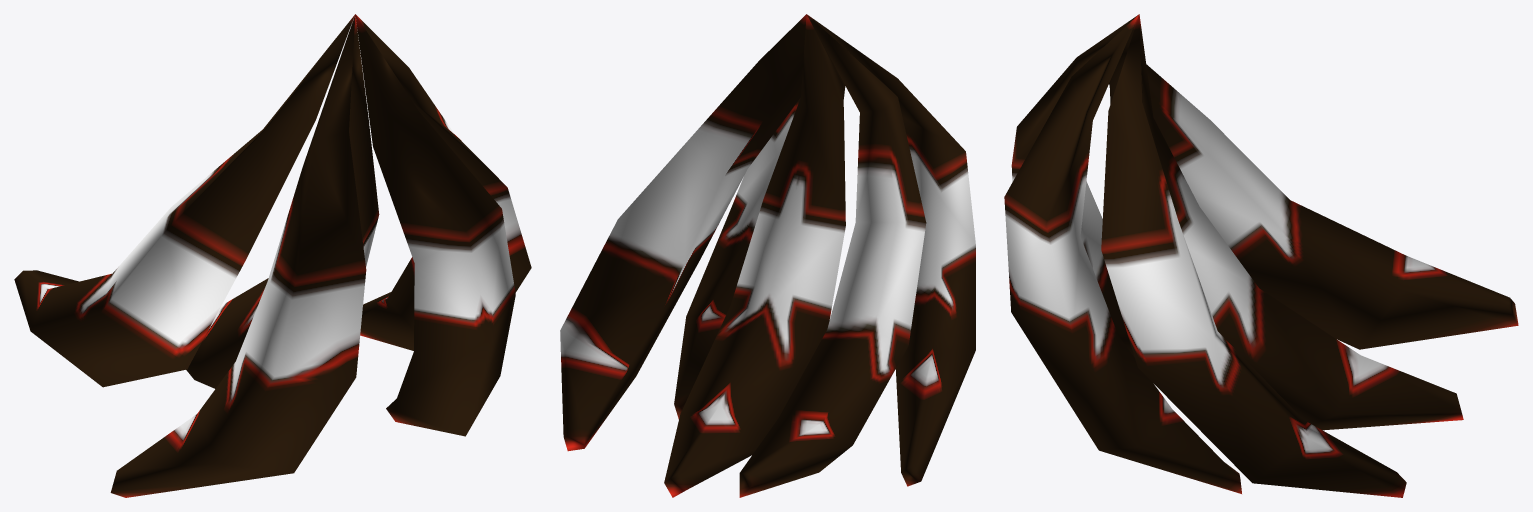
The model's file is list.ico.obj.
3 views of the same model, side by side, from view 1: azimuth 30°, elevation 25°; view 2: azimuth 150°, elevation 25°; view 3: azimuth 270°, elevation 25° (orthographic). The views are drawn at different scales.
Size of the model in its own units: 3.15 by 3.68 by 3.84.
